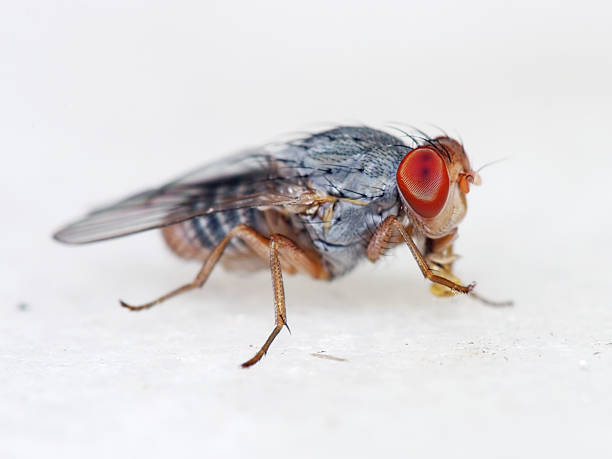Fruit fly: (83, 109, 524, 348)
